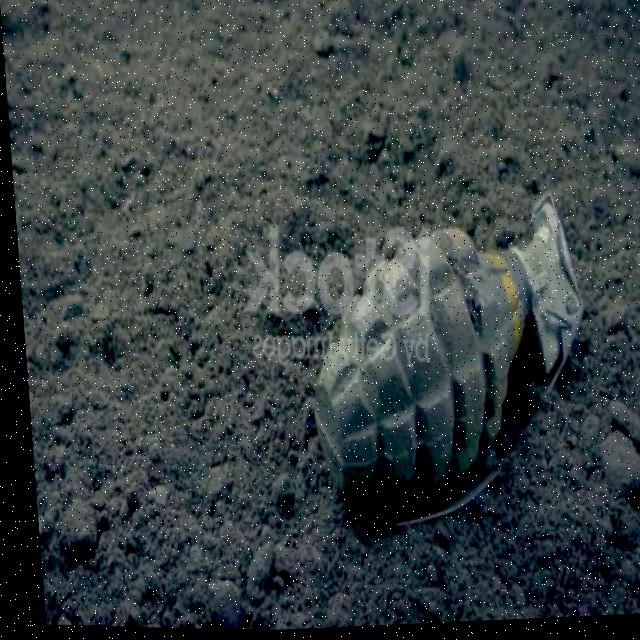grenade: (287, 184, 602, 555)
